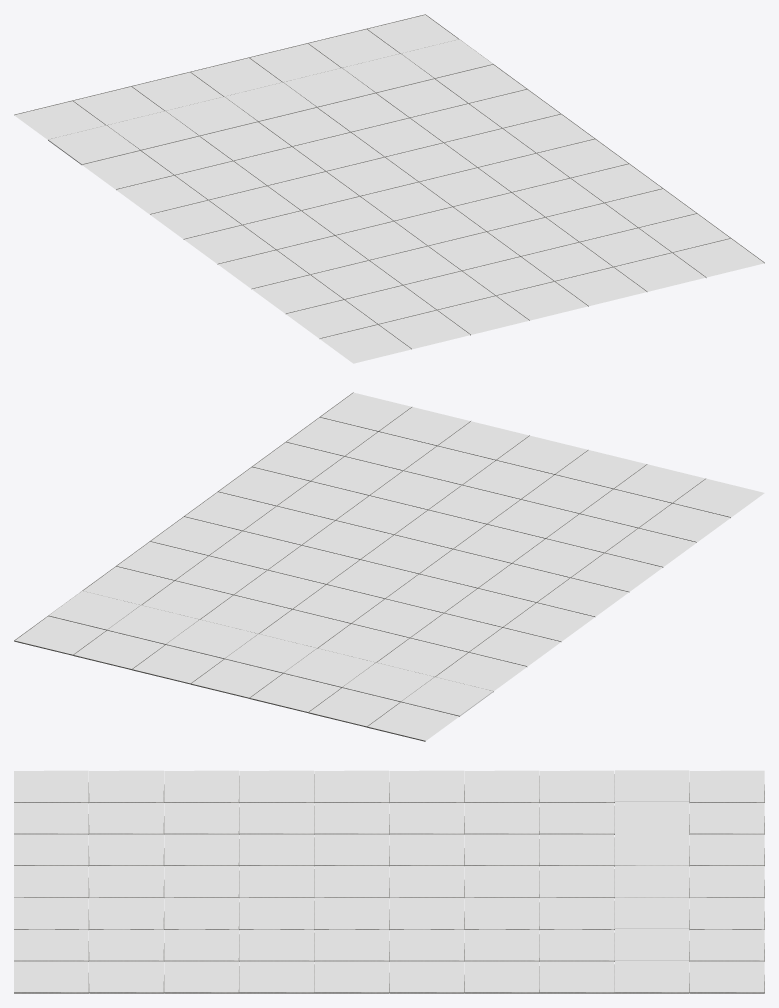
The model's file is wall_panel_v3.glb.
The picture shows the model from 3 angles, top to bottom: view 1: azimuth 30°, elevation 25°; view 2: azimuth 150°, elevation 25°; view 3: azimuth 270°, elevation 25°; orthographic projection. The views are drawn at different scales.
Parts seen in each view (by area): view 1: Square Wall Tiles; view 2: Square Wall Tiles; view 3: Square Wall Tiles.
Part boxes in pixels (x1,y1,x2,y2): Square Wall Tiles: (14, 14, 764, 363); Square Wall Tiles: (14, 392, 764, 741); Square Wall Tiles: (14, 770, 764, 993).
Size of the model in its own units: 2.12 by 0.00572 by 3.03.
2 materials, 2 textured.
